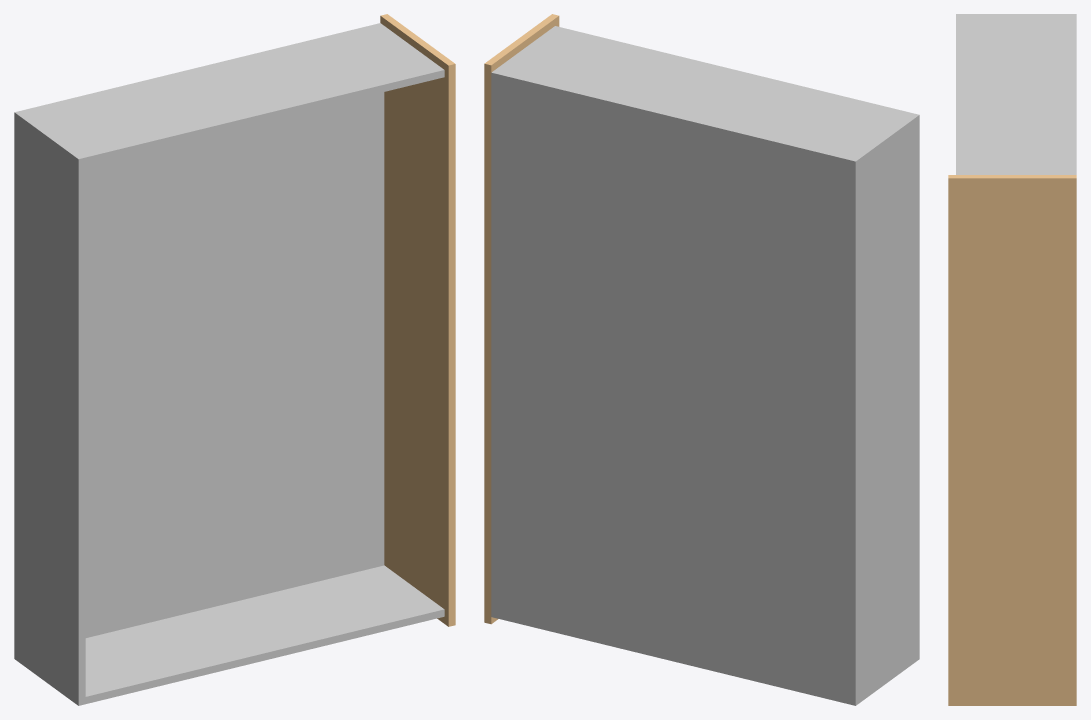
File: ROOM610-CUPBOARD-BODYSET6_link_mesh.dae
3 views of the same model, side by side, from view 1: azimuth 30°, elevation 25°; view 2: azimuth 150°, elevation 25°; view 3: azimuth 270°, elevation 25° (orthographic). The views are drawn at different scales.
Parts seen in each view (by area): view 1: ROOM610-CUPBOARD-BODYSET6_link (×2); view 2: ROOM610-CUPBOARD-BODYSET6_link (×2); view 3: ROOM610-CUPBOARD-BODYSET6_link (×2).
Boxes of the visible parts, x1,y1,x2,y2 form: ROOM610-CUPBOARD-BODYSET6_link (×2): (14, 14, 455, 705); ROOM610-CUPBOARD-BODYSET6_link (×2): (484, 14, 919, 705); ROOM610-CUPBOARD-BODYSET6_link (×2): (948, 14, 1076, 705).
Size of the model in its own units: 0.534 by 0.768 by 0.169.
